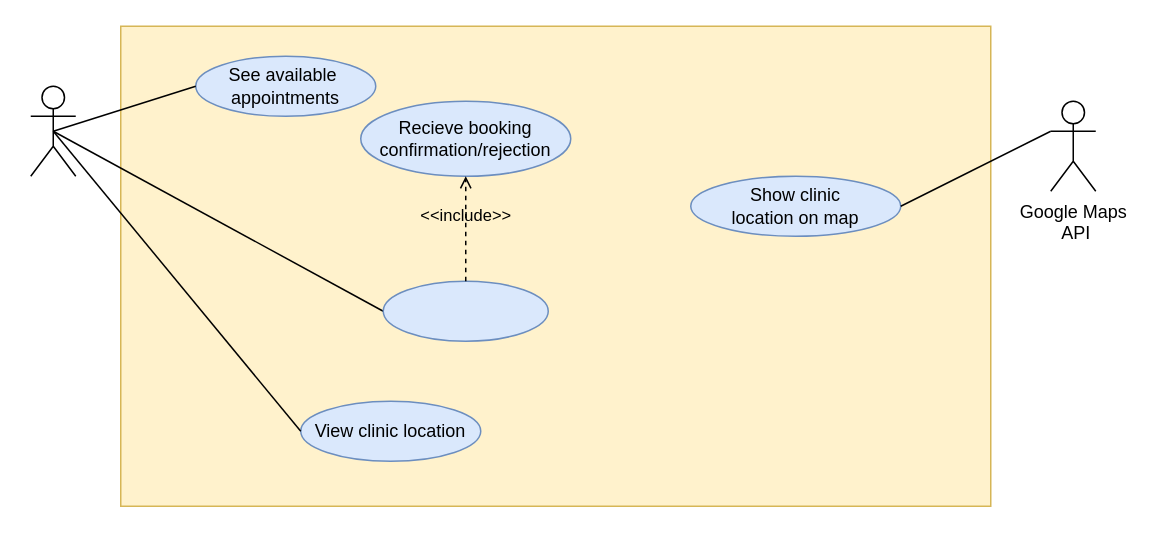
This 1152x533 diagram has some shape labels left out. Here are the shapes that lost their labels. From the top down, the centre of each, then its label:
At point (52, 130): "Patient".
At point (465, 310): "Book appointment".
